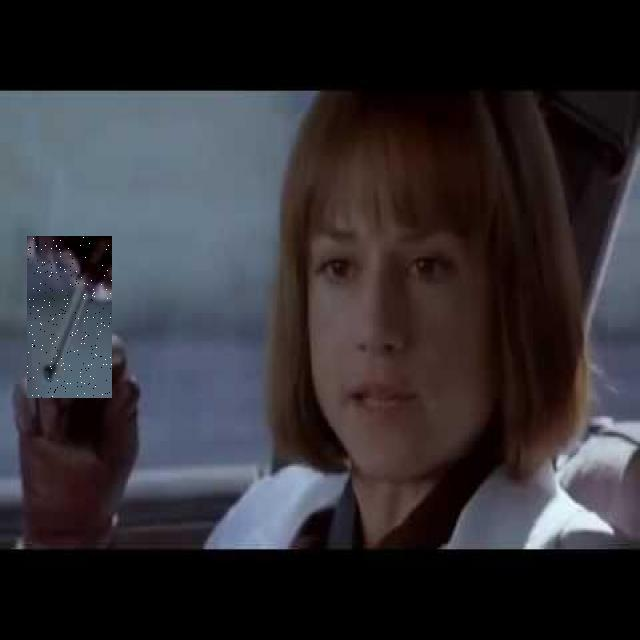smoking: (27, 237, 112, 399)
